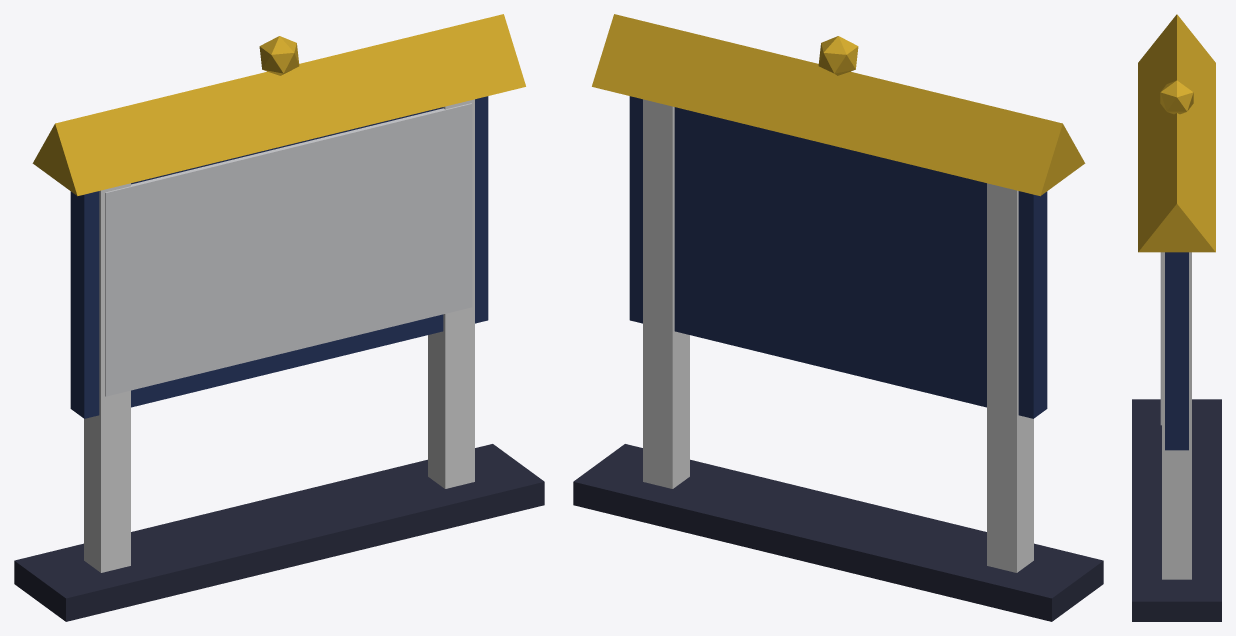
File: zone_sign.glb
3 views of the same model, side by side, from view 1: azimuth 30°, elevation 25°; view 2: azimuth 150°, elevation 25°; view 3: azimuth 270°, elevation 25° (orthographic). The views are drawn at different scales.
Parts seen in each view (by area): view 1: zone_sign; view 2: zone_sign; view 3: zone_sign.
Boxes of the visible parts, left/top/right/bottom form: zone_sign: left=14, top=14, right=544, bottom=621; zone_sign: left=573, top=14, right=1103, bottom=621; zone_sign: left=1132, top=14, right=1221, bottom=621.
Size of the model in its own units: 3.2 by 3.25 by 0.6.
